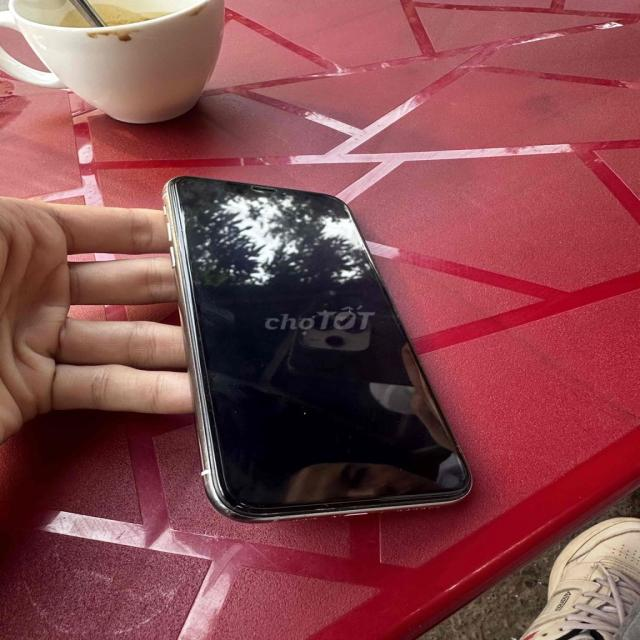scratch: (217, 500, 242, 526), (312, 505, 334, 515)
